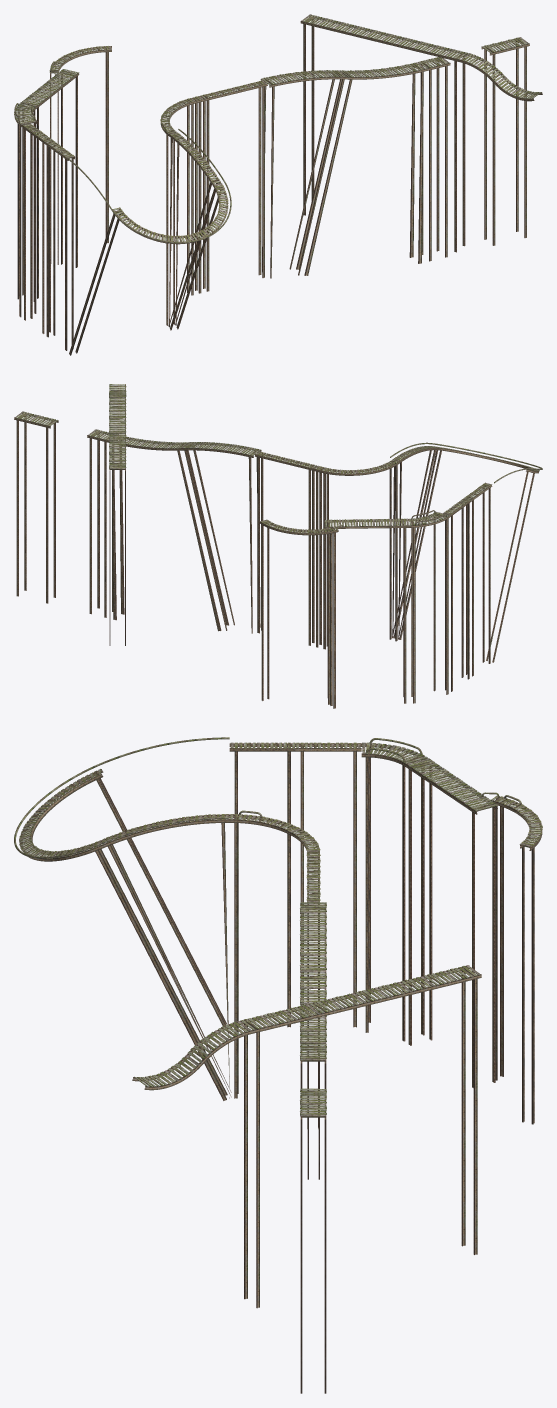
3 renders of one model, top to bottom at view 1: azimuth 30°, elevation 25°; view 2: azimuth 150°, elevation 25°; view 3: azimuth 270°, elevation 25°, orthographic. The views are drawn at different scales.
Visible parts, largest first — view 1: Ramp.019, Ramp.003, Ramp.011, Ramp.006, Ramp.002, Ramp, Ramp.012, Ramp.014, Ramp.010, Ramp.004, Ramp.007, Ramp.013 (+5 smaller); view 2: Ramp.003, Ramp.011, Ramp.001, Ramp.002, Ramp.004, Ramp.013, Ramp.014, Ramp.012, Ramp.006, Ramp.007, Ramp, Ramp.010 (+3 smaller); view 3: Ramp.019, Ramp.014, Ramp.006, Ramp.001, Ramp.013, Ramp.005, Ramp.004, Ramp.002, Ramp.007, Ramp.012, Ramp, Ramp.011 (+4 smaller).
Part boxes in pixels (bbox=[...]): Ramp.019: bbox=[300, 14, 467, 252]; Ramp.003: bbox=[192, 80, 267, 293]; Ramp.011: bbox=[296, 62, 426, 275]; Ramp.006: bbox=[69, 182, 228, 355]; Ramp.002: bbox=[481, 37, 529, 245]; Ramp: bbox=[45, 140, 75, 350]; Ramp.012: bbox=[260, 70, 347, 278]; Ramp.014: bbox=[20, 69, 79, 298]; Ramp.010: bbox=[418, 57, 450, 261]; Ramp.004: bbox=[160, 98, 196, 325]; Ramp.007: bbox=[22, 123, 52, 333]; Ramp.013: bbox=[14, 103, 37, 317]; Ramp.003: bbox=[255, 451, 324, 647]; Ramp.011: bbox=[109, 434, 228, 631]; Ramp.001: bbox=[260, 519, 338, 708]; Ramp.002: bbox=[14, 411, 58, 603]; Ramp.004: bbox=[320, 460, 399, 649]; Ramp.013: bbox=[409, 512, 450, 703]; Ramp.014: bbox=[324, 518, 409, 704]; Ramp.012: bbox=[181, 442, 261, 633]; Ramp.006: bbox=[393, 446, 539, 662]; Ramp.007: bbox=[443, 498, 471, 691]; Ramp: bbox=[464, 482, 492, 676]; Ramp.010: bbox=[87, 429, 116, 617]; Ramp.019: bbox=[240, 965, 481, 1308]; Ramp.014: bbox=[406, 758, 497, 1087]; Ramp.006: bbox=[19, 769, 227, 1100]; Ramp.001: bbox=[491, 795, 542, 1124]; Ramp.013: bbox=[361, 742, 427, 1041]; Ramp.005: bbox=[101, 814, 231, 1098]; Ramp.004: bbox=[229, 814, 320, 1128]; Ramp.002: bbox=[300, 1088, 326, 1393]; Ramp.007: bbox=[295, 742, 361, 1027]; Ramp.012: bbox=[300, 902, 326, 973]; Ramp: bbox=[229, 742, 295, 1027]; Ramp.011: bbox=[300, 973, 326, 1043].
Bounding box in the file's own units: 6162 × 2638 × 4001.
